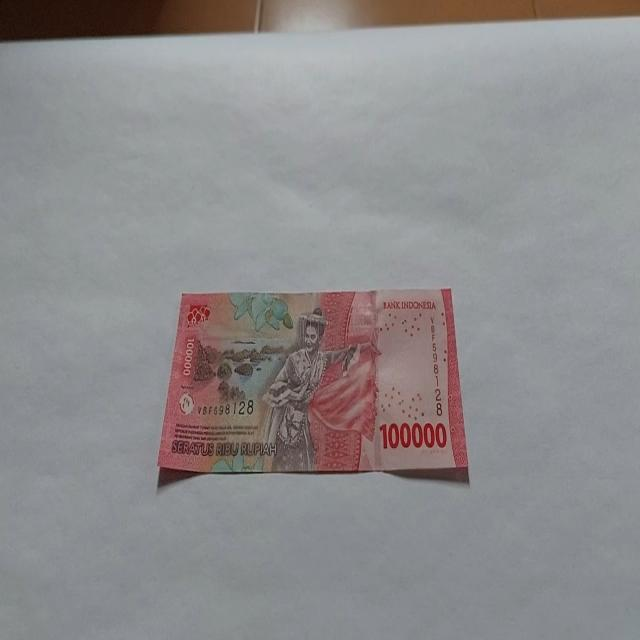seratus ribu rupiah: (156, 286, 469, 483), (256, 306, 358, 472)
